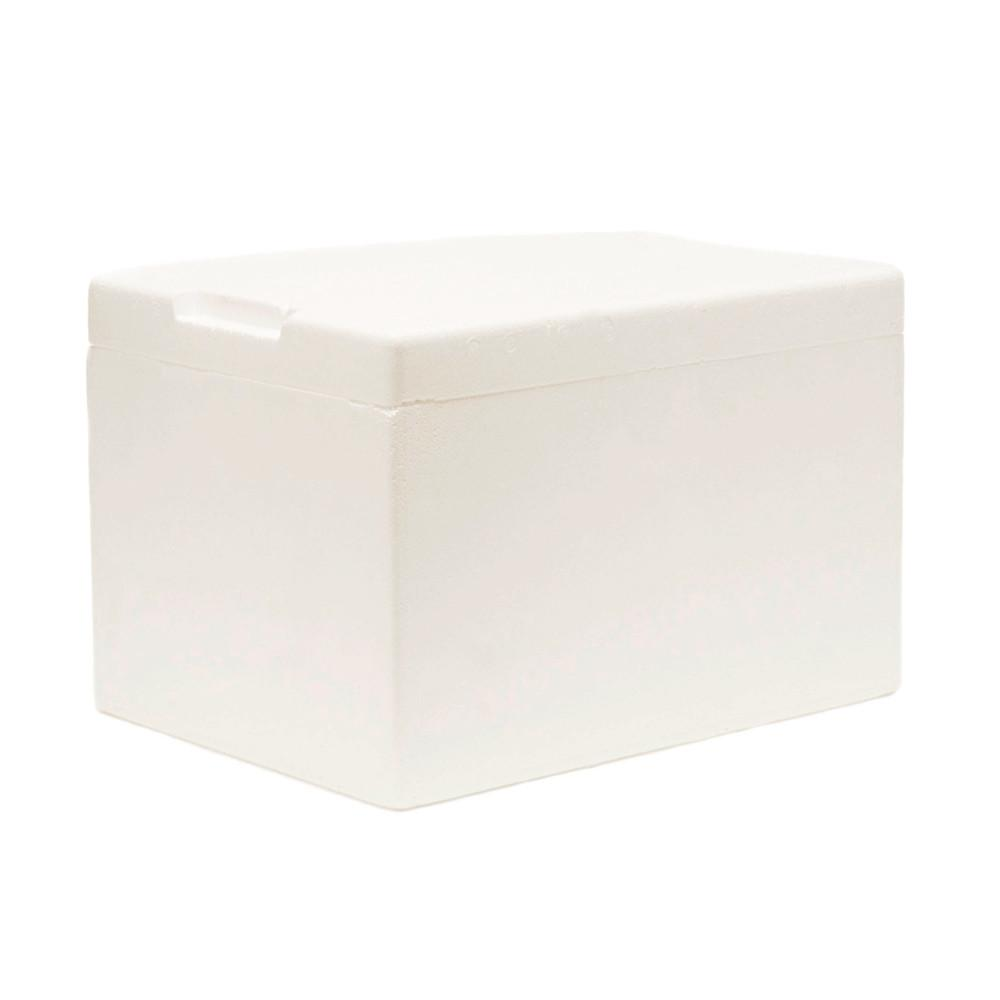Foam Box: (74, 215, 918, 820)
